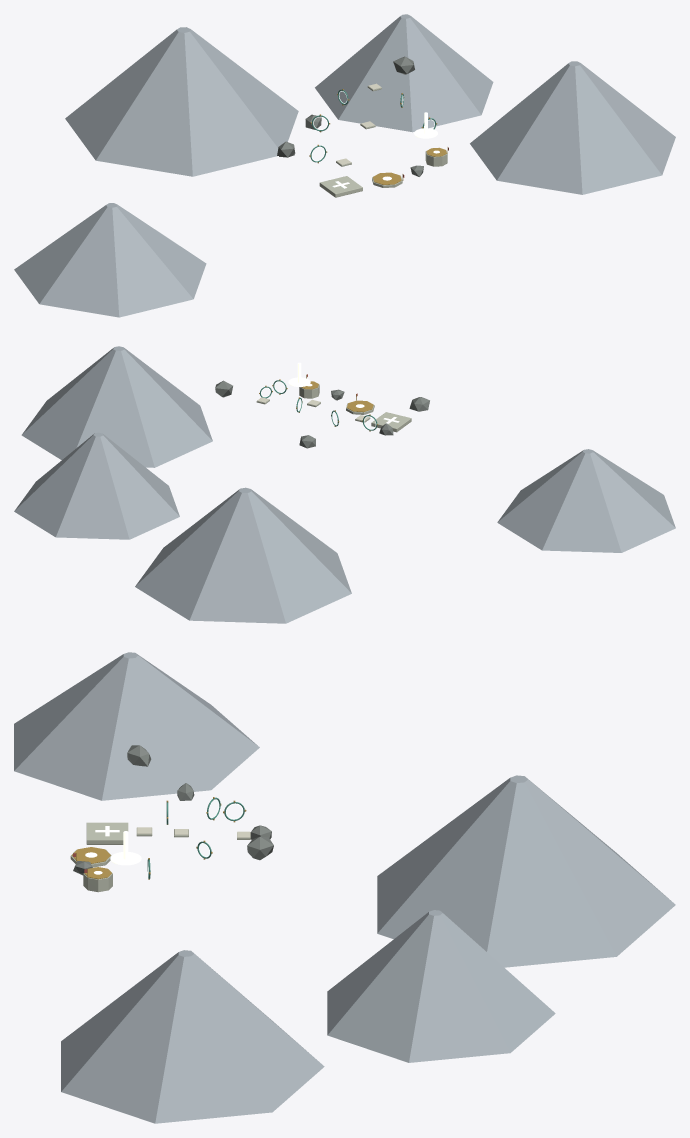
File: pre_surface_clearance_sword_flight_course.glb
The picture shows the model from 3 angles, top to bottom: view 1: azimuth 30°, elevation 25°; view 2: azimuth 150°, elevation 25°; view 3: azimuth 270°, elevation 25°; orthographic projection. The views are drawn at different scales.
Visible parts, largest first — view 1: far_north, far_east, far_west, far_northeast, takeoff_pad; view 2: far_north, far_east, far_west, far_northeast, takeoff_pad; view 3: far_north, far_east, far_west, far_northeast, takeoff_pad.
Boxes of the visible parts, x1,y1,x2,y2 form: far_north: (65, 27, 298, 176); far_east: (470, 61, 675, 194); far_west: (14, 203, 206, 317); far_northeast: (315, 14, 493, 132); takeoff_pad: (319, 176, 362, 197); far_north: (135, 487, 351, 623); far_east: (21, 346, 212, 467); far_west: (497, 449, 675, 552); far_northeast: (14, 432, 179, 539); takeoff_pad: (371, 412, 411, 432); far_north: (377, 775, 675, 967); far_east: (61, 950, 324, 1123); far_west: (14, 652, 259, 800); far_northeast: (327, 910, 555, 1062); takeoff_pad: (86, 822, 128, 844).
Bounding box in the file's own units: 215 × 34.97 × 143.
